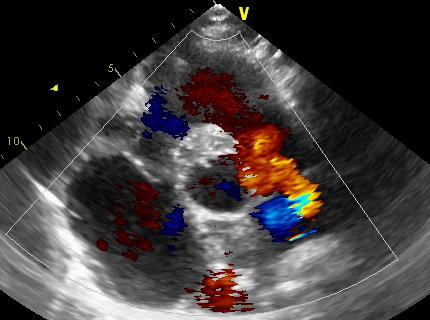PR: (236, 127, 323, 201)
